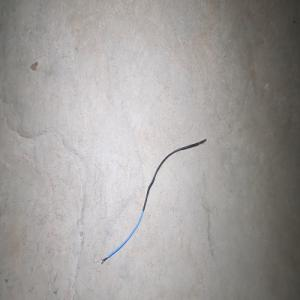Wire: (100, 138, 206, 264)
